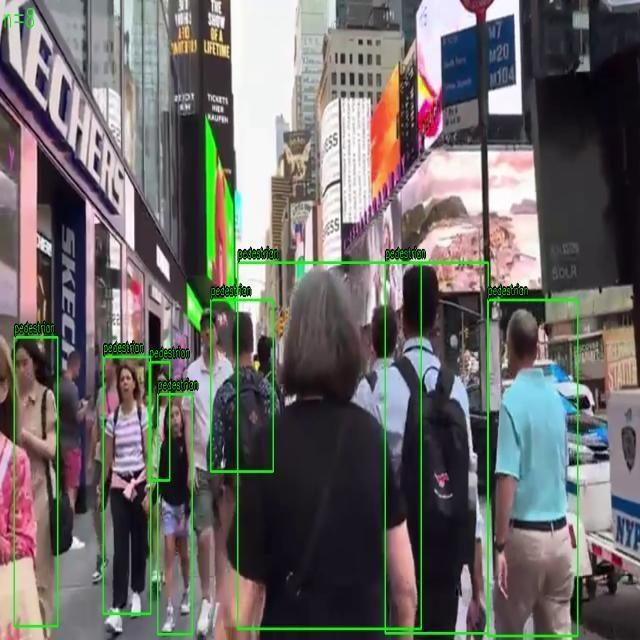person: (238, 262, 422, 630), (386, 262, 488, 634), (488, 299, 578, 636), (14, 337, 58, 627), (103, 356, 151, 614), (210, 300, 274, 472), (158, 393, 192, 634), (149, 362, 170, 481)
